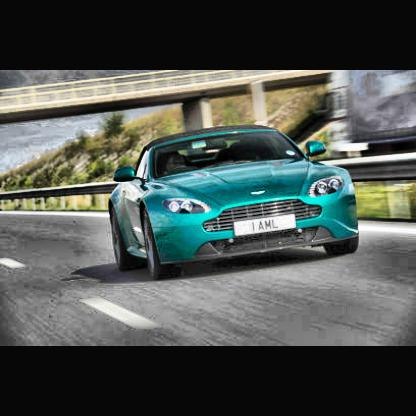Aston Martin V8 Vantage Coupe 2012: (109, 123, 364, 284)
